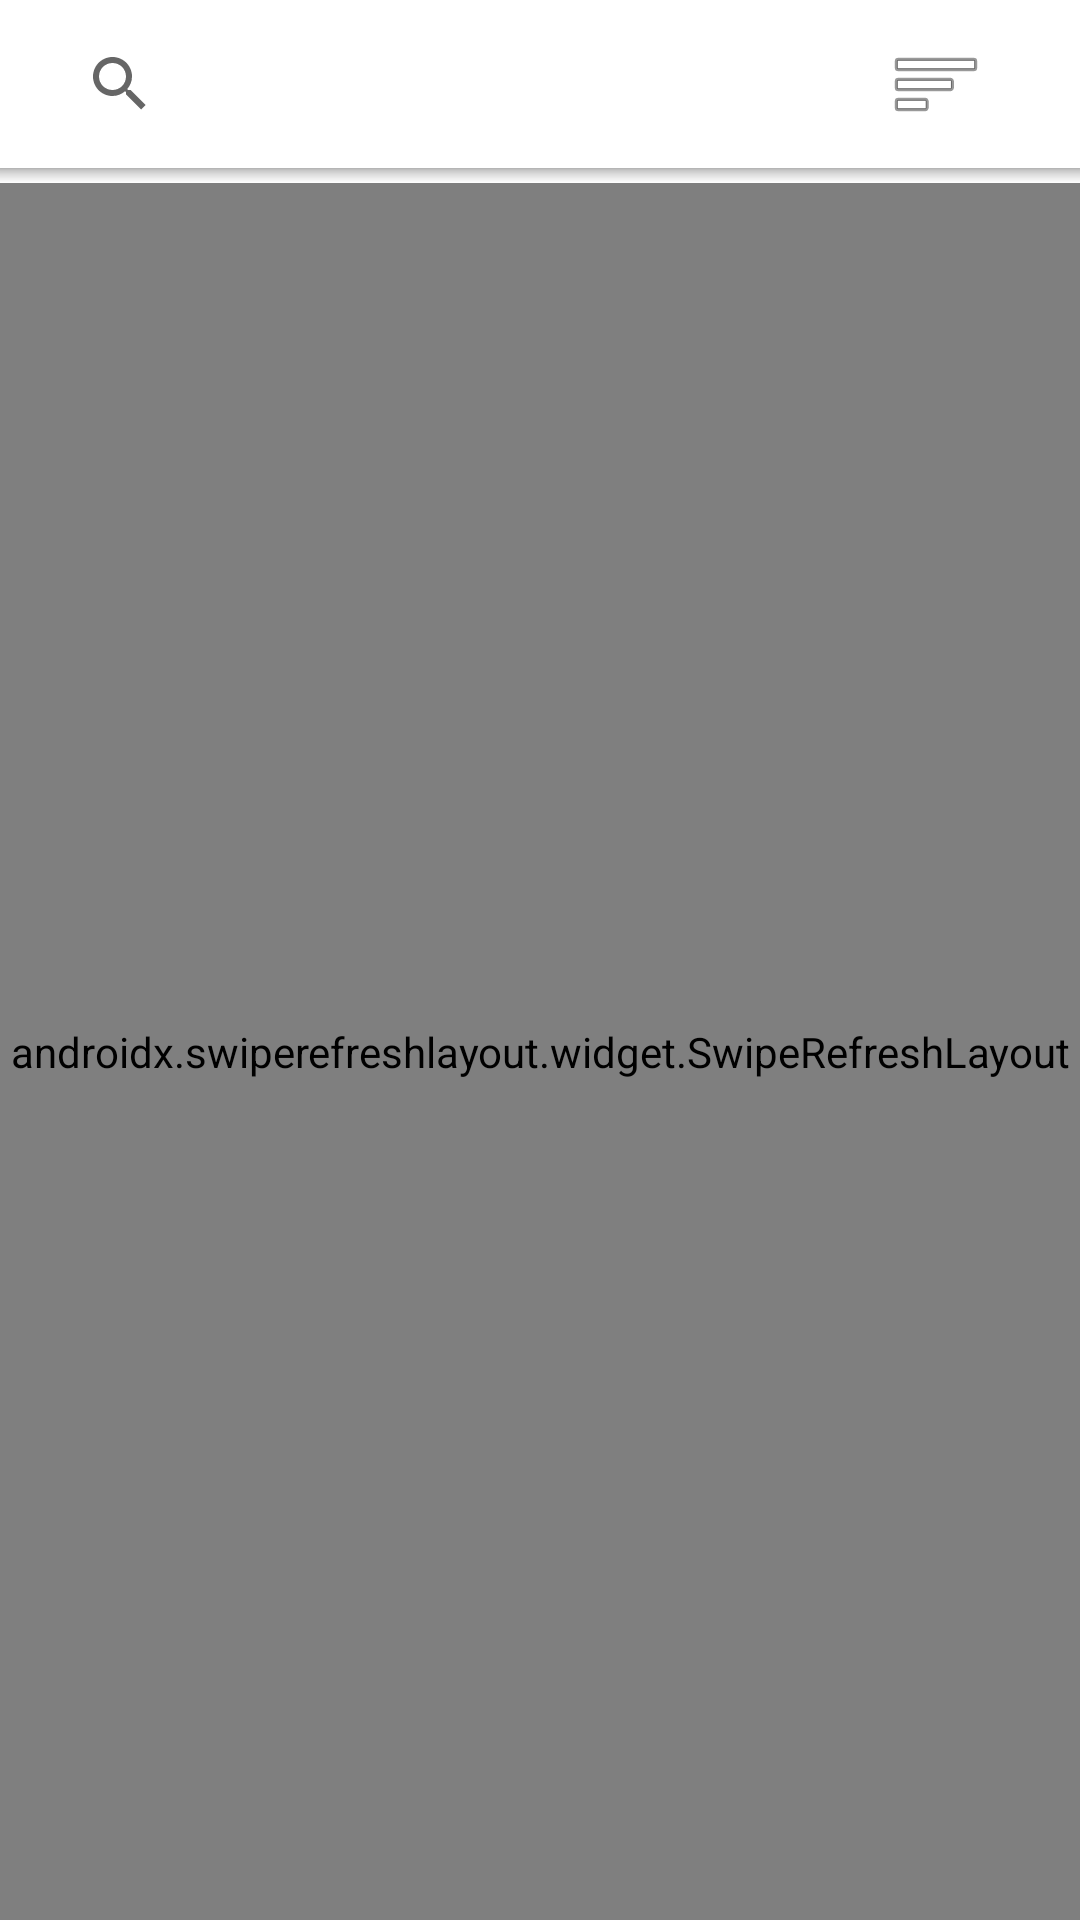

Named icons in this screenshot (1080px×1920px) and their centers, [x,y]:
sort by size: [936,84]
